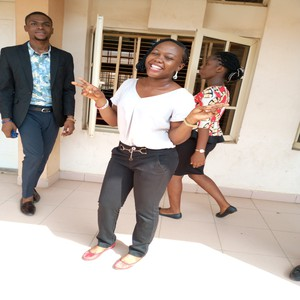Fulokoja_female_student: (97, 41, 181, 259), (190, 50, 235, 215)
Fulokoja_male_student: (4, 13, 74, 209)
